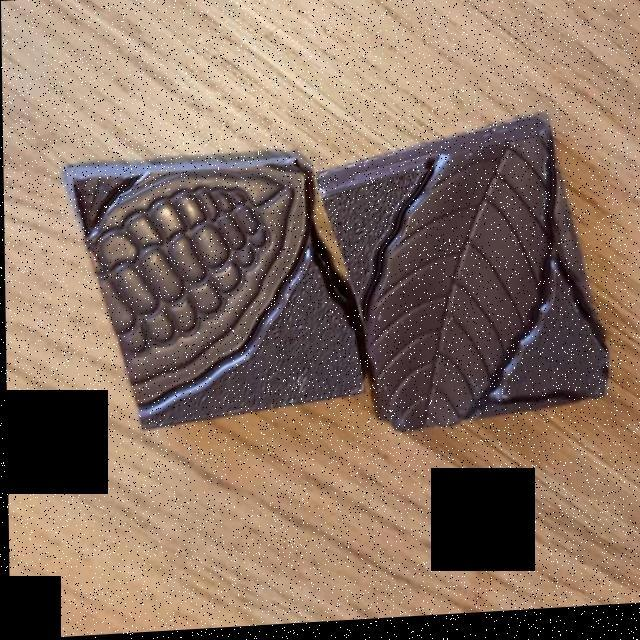chocolate: (52, 109, 621, 447)
